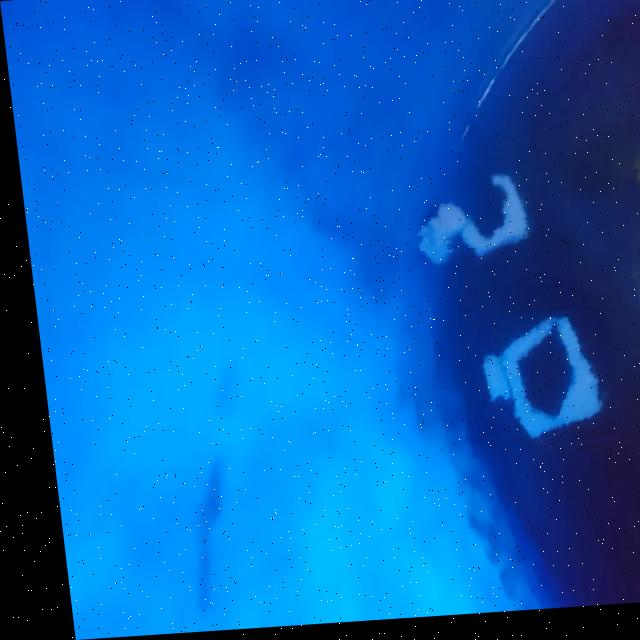thermocoal: (447, 314, 611, 463), (405, 205, 529, 256)
